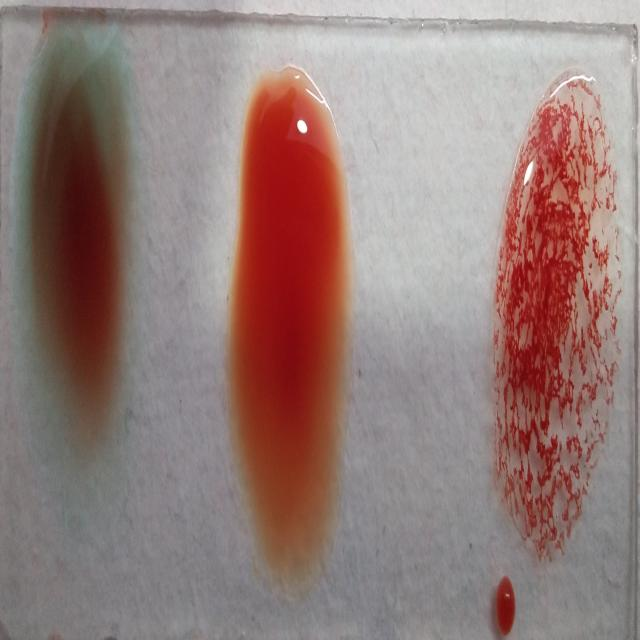D: (492, 76, 620, 547)
